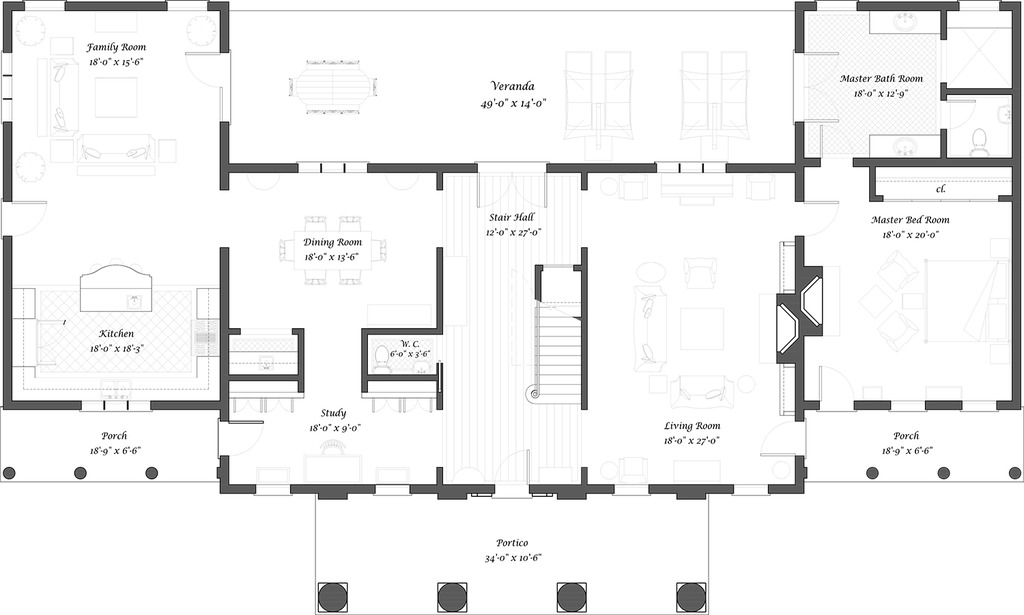bed: (920, 256, 1012, 347)
dining_table: (274, 215, 389, 288), (286, 56, 381, 117)
door: (476, 171, 549, 210), (802, 52, 841, 123), (210, 419, 267, 460), (755, 419, 809, 457), (816, 365, 858, 411), (4, 197, 49, 237), (184, 48, 224, 92), (801, 196, 840, 236), (490, 448, 528, 484), (945, 99, 979, 129)
kitchen_bar: (75, 261, 157, 315)
large_sink: (964, 123, 993, 156), (371, 342, 391, 375)
large_sofa: (70, 131, 163, 178), (625, 282, 669, 377), (46, 53, 80, 135), (665, 373, 735, 411)
small_sink: (867, 133, 940, 161), (862, 12, 941, 35)
small_sofa: (878, 306, 918, 354), (680, 253, 727, 293), (880, 250, 918, 297), (616, 172, 649, 205), (746, 171, 776, 205)
stairs: (525, 295, 587, 409)
windows: (293, 158, 372, 179), (647, 156, 732, 175), (73, 397, 156, 416), (369, 479, 414, 501), (251, 478, 297, 499), (608, 480, 650, 499), (727, 483, 771, 499), (884, 399, 928, 415), (959, 397, 998, 415)
